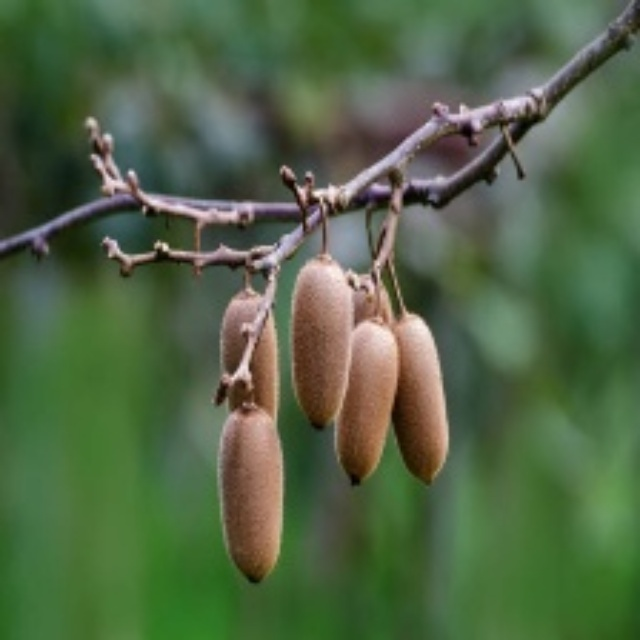kiwi: (202, 393, 304, 590), (349, 313, 456, 499), (211, 287, 288, 449), (289, 258, 353, 428)
